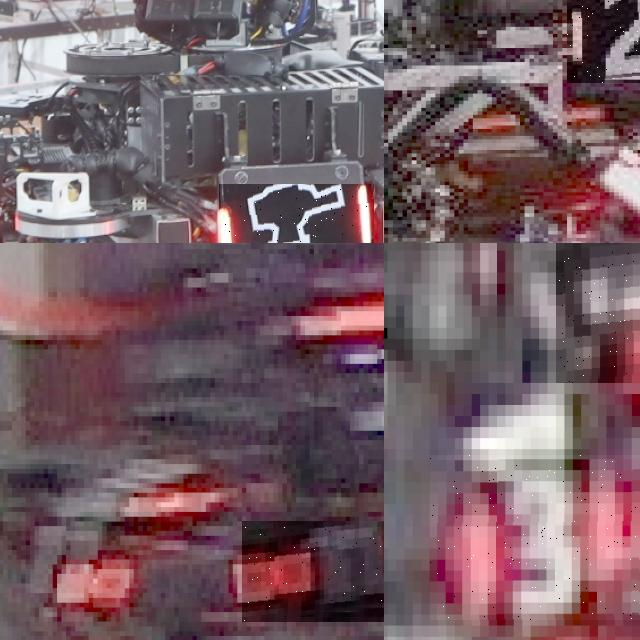R1: (241, 521, 384, 621)
R2: (566, 0, 640, 83)
R3: (429, 454, 640, 620), (556, 243, 640, 382)
Rs: (218, 184, 374, 243)
